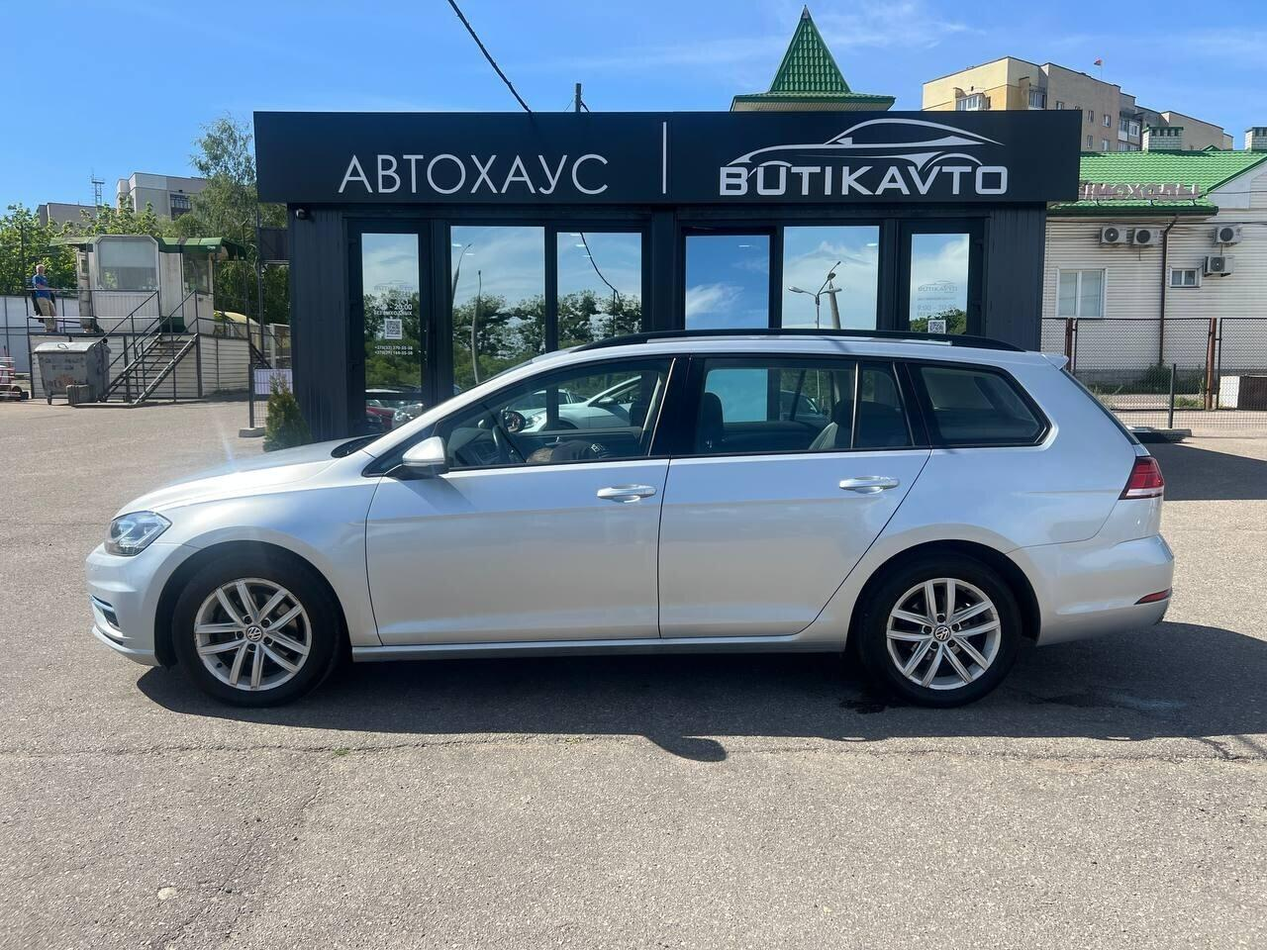Golf_2017-2021: (86, 324, 1179, 711)
